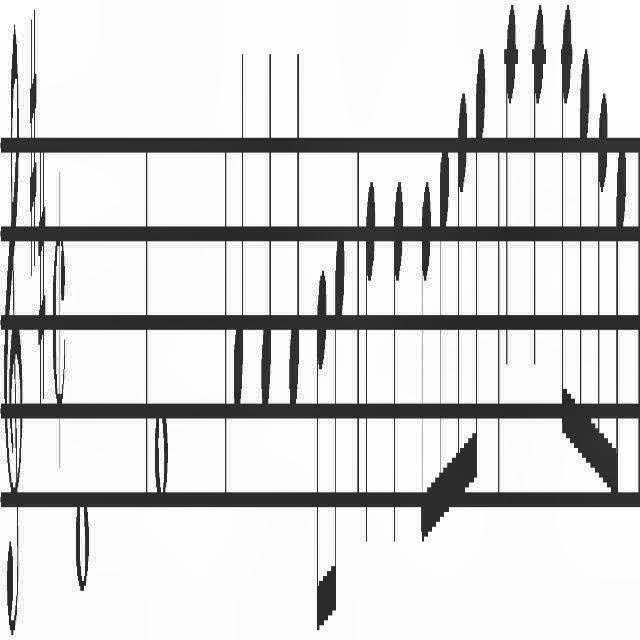Bass-clef: (4, 8, 23, 632)
Diez: (28, 0, 38, 284), (38, 140, 46, 412)
Eighth-note: (469, 42, 486, 538), (327, 216, 345, 624), (452, 79, 468, 537), (594, 87, 610, 515), (434, 129, 450, 553), (576, 38, 590, 496), (560, 1, 574, 443), (612, 124, 626, 546), (316, 264, 328, 636), (421, 167, 432, 565)
Full-note: (75, 489, 89, 595), (154, 404, 168, 492)
Quarter-note: (504, 0, 516, 390), (364, 174, 376, 562), (288, 38, 300, 424), (233, 42, 245, 424), (261, 38, 273, 420), (532, 1, 544, 383), (392, 182, 404, 560)
